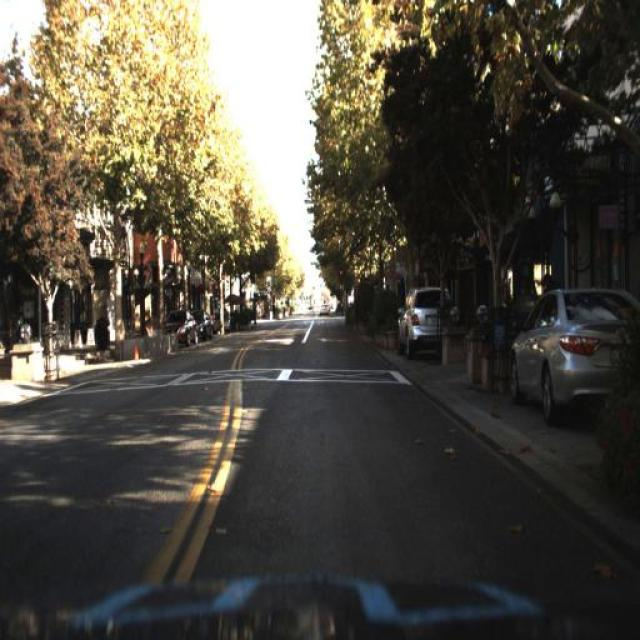car: (510, 281, 640, 425), (393, 282, 456, 368), (158, 308, 198, 348), (192, 304, 214, 340)
